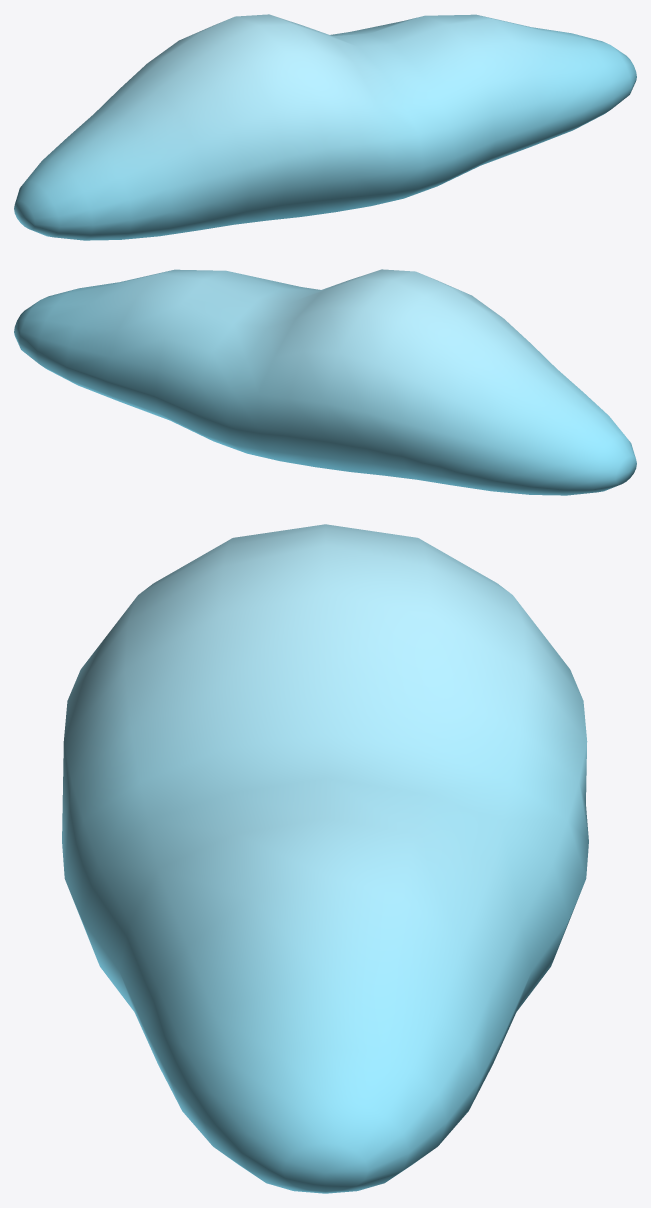
The model's file is Cloud_Medium_B.fbx.
3 views of the same model, one above another, from view 1: azimuth 30°, elevation 25°; view 2: azimuth 150°, elevation 25°; view 3: azimuth 270°, elevation 25° (orthographic). The views are drawn at different scales.
Visible parts, largest first — view 1: Cloud_Medium_B; view 2: Cloud_Medium_B; view 3: Cloud_Medium_B.
Part boxes in pixels (bbox=[...]): Cloud_Medium_B: bbox=[14, 14, 636, 240]; Cloud_Medium_B: bbox=[14, 269, 636, 495]; Cloud_Medium_B: bbox=[62, 524, 588, 1193].
Size of the model in its own units: 1502 by 424 by 564.
